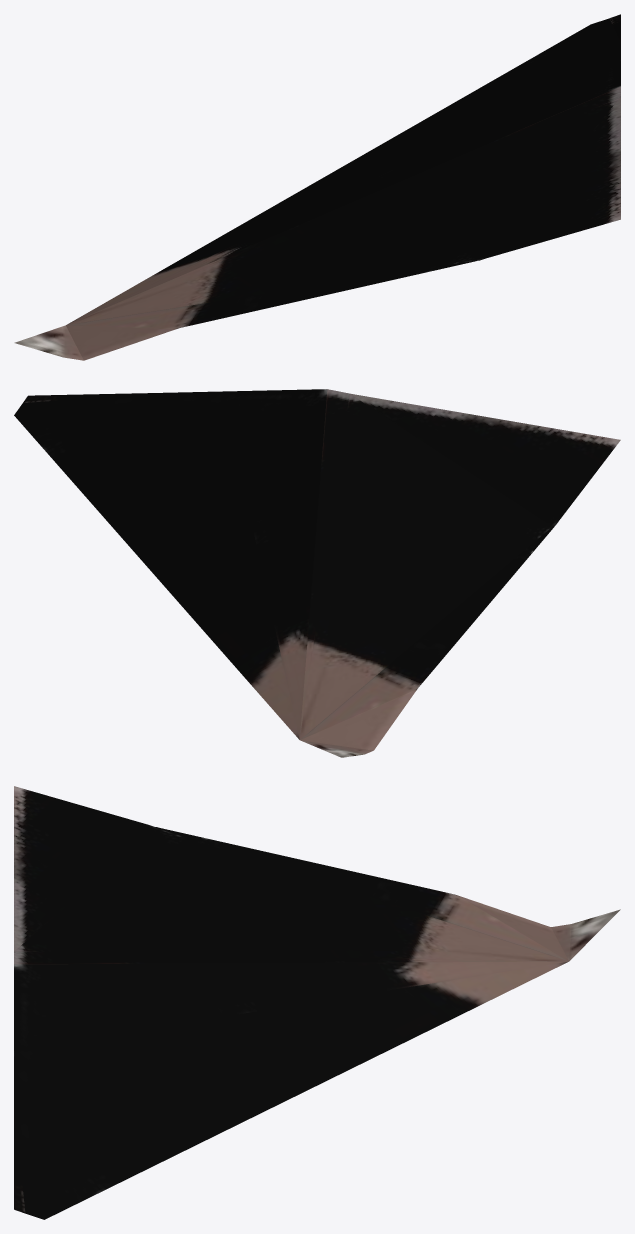
3 views of the same model, one above another, from view 1: azimuth 90°, elevation 25°; view 2: azimuth 150°, elevation 25°; view 3: azimuth 270°, elevation 25° (orthographic). The views are drawn at different scales.
Size of the model in its own units: 3.35 by 0.701 by 2.73.
Materials: 1 (1 with a texture image).
